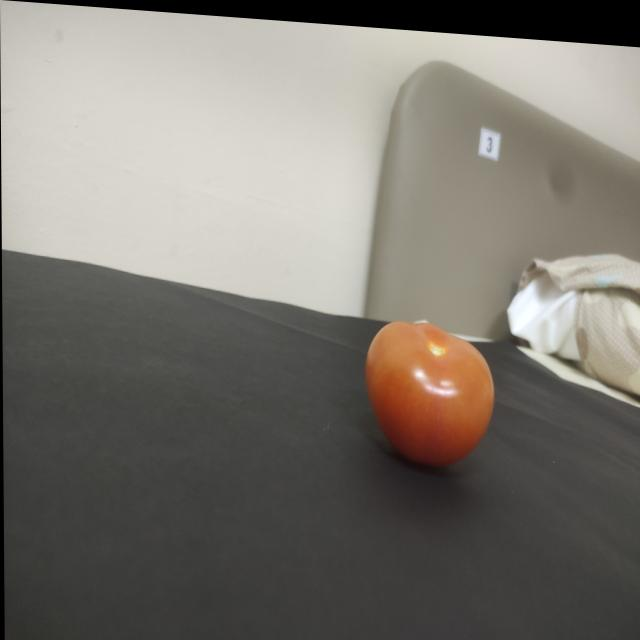sari: (359, 301, 501, 468)
